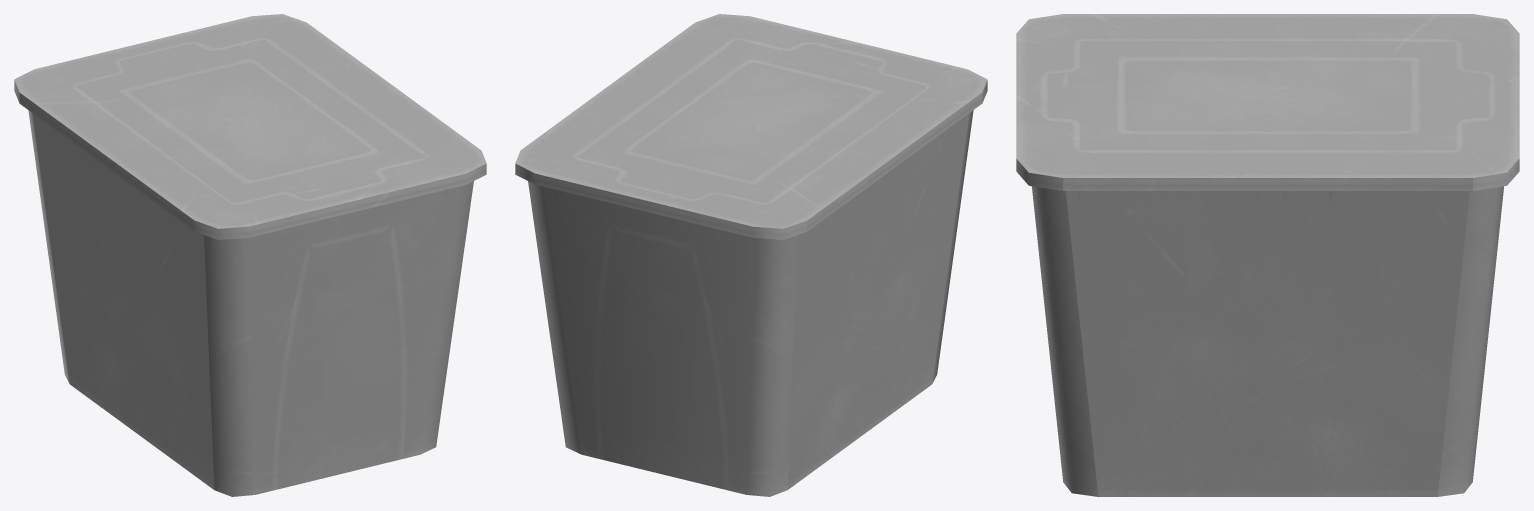
File: GarageBox.FBX
The picture shows the model from 3 angles, left to right: view 1: azimuth 30°, elevation 25°; view 2: azimuth 150°, elevation 25°; view 3: azimuth 270°, elevation 25°; orthographic projection. The views are drawn at different scales.
Parts seen in each view (by area): view 1: GarageBox; view 2: GarageBox; view 3: GarageBox.
Part boxes in pixels (box(x1,y1,x2,y2)): GarageBox: box(14, 14, 486, 496); GarageBox: box(515, 14, 987, 496); GarageBox: box(1016, 14, 1519, 496).
Bounding box in the file's own units: 37.79 × 36.4 × 49.01.
